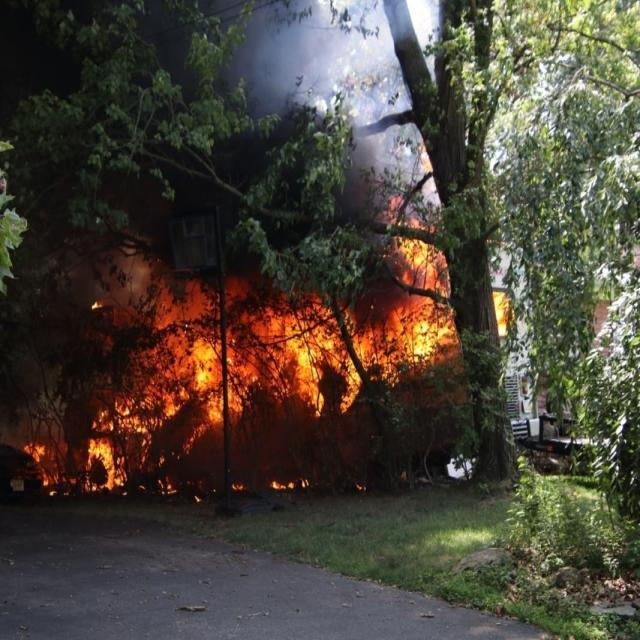Fire: (11, 176, 480, 496)
Smoke: (213, 0, 454, 191)
